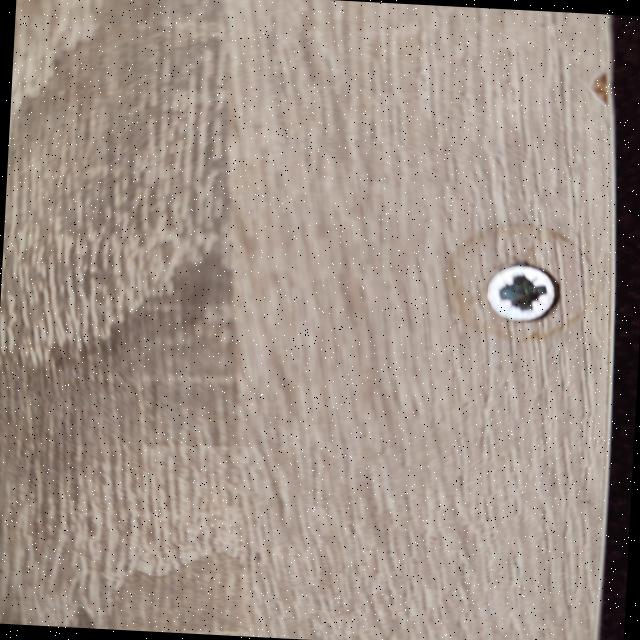Pozidriv: (462, 257, 572, 337)
